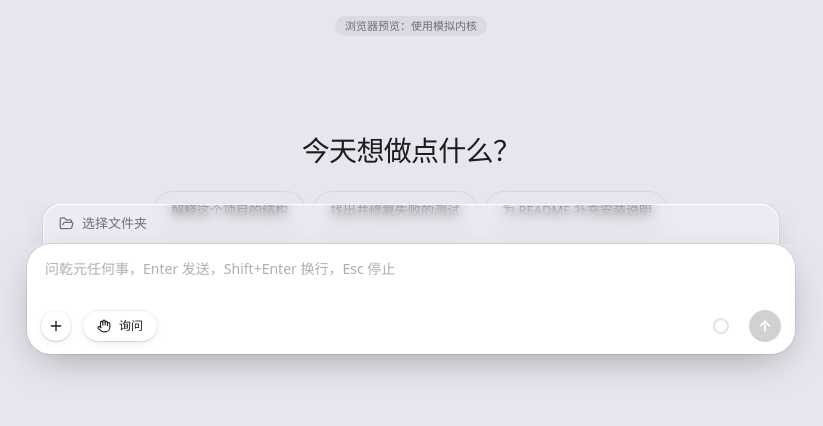
对话区（mock 事件流） › 其他发送错误只显示错误文案，不锁定发送
The width and height of the screenshot is (823, 426).
Type "你好" into the text box named "输入消息" at (411, 280), box [41,258,781,302]
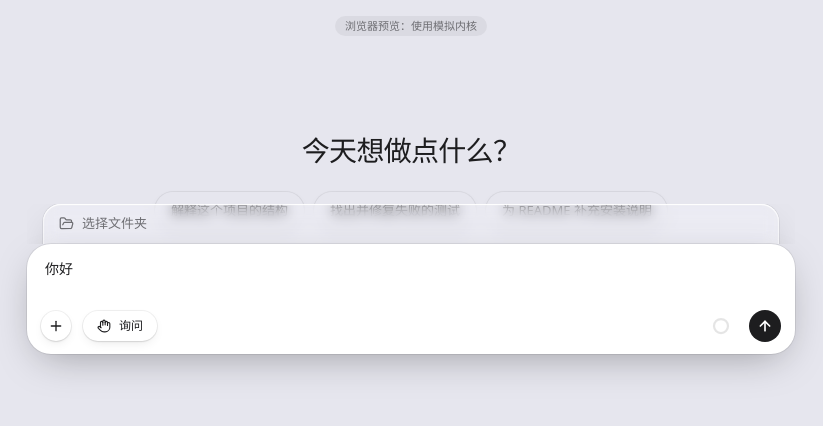
Press Enter in the text box named "输入消息", box [41,258,781,302]
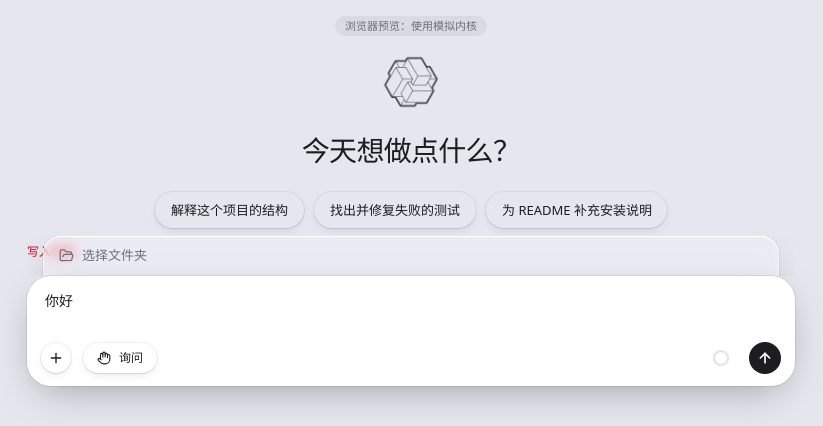
Check: the button named "发送" is enabled, box [749,342,781,374]
Check: the text "写入失败" is shown, box [27,243,75,260]
